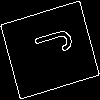J: (25, 25, 74, 62)
